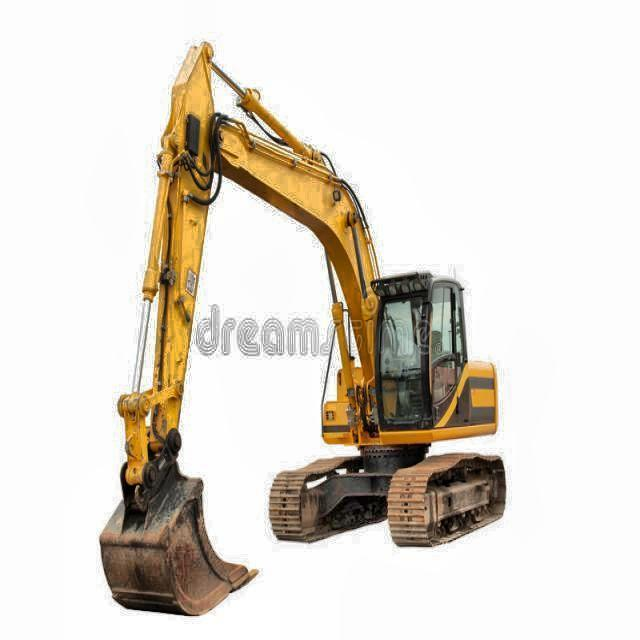excavator: (96, 37, 509, 622)
